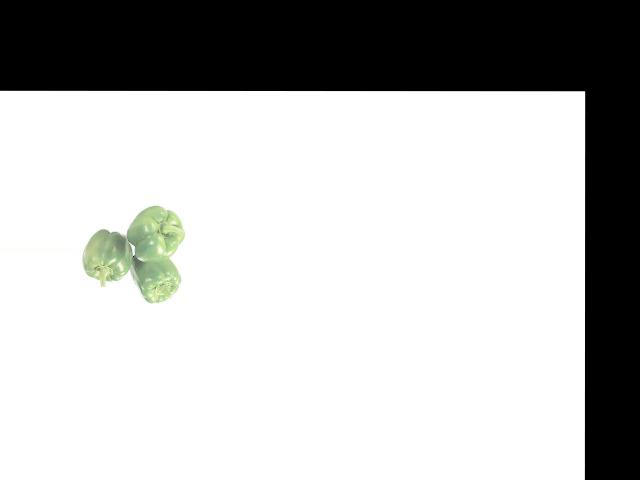bell_pepper: (127, 200, 189, 263)
